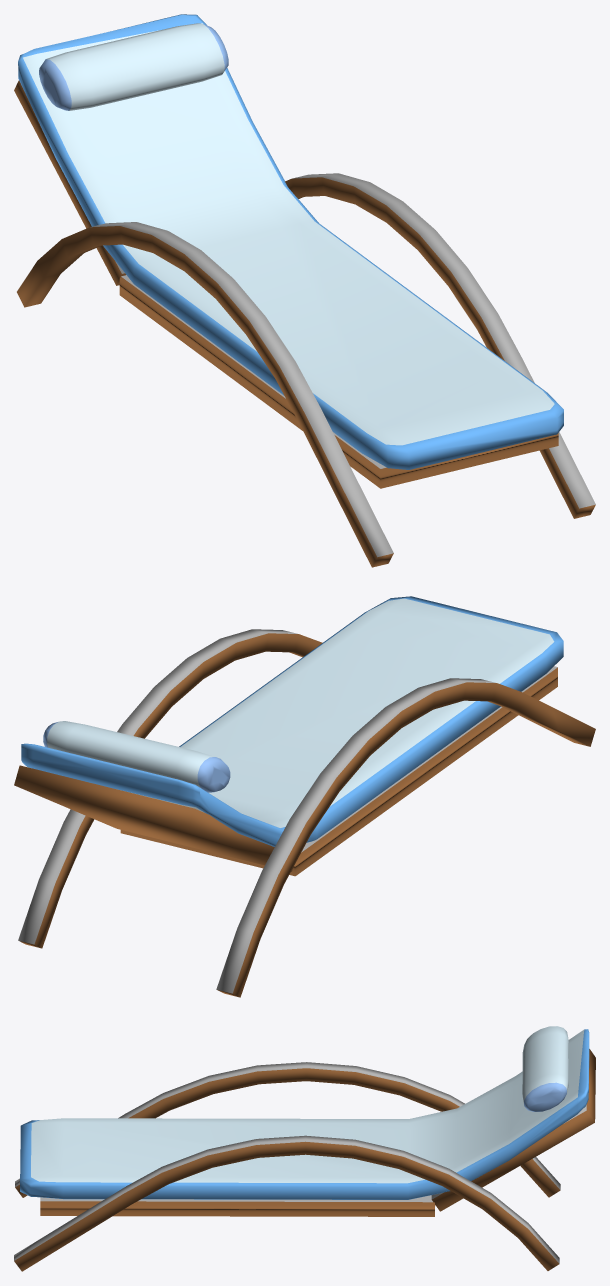
File: kansituoli.fbx
3 views of the same model, one above another, from view 1: azimuth 30°, elevation 25°; view 2: azimuth 150°, elevation 25°; view 3: azimuth 270°, elevation 25° (orthographic). The views are drawn at different scales.
Parts seen in each view (by area): view 1: polymsh, kansituoli:kansiTuoli; view 2: polymsh, kansituoli:kansiTuoli; view 3: polymsh, kansituoli:kansiTuoli.
Part boxes in pixels (x1,y1,x2,y2): polymsh: (14, 14, 595, 567); kansituoli:kansiTuoli: (119, 275, 558, 488); polymsh: (14, 596, 595, 997); kansituoli:kansiTuoli: (120, 666, 557, 876); polymsh: (14, 1026, 595, 1271); kansituoli:kansiTuoli: (40, 1195, 435, 1216).
Size of the model in its own units: 3.25 by 3.36 by 9.87.
7 materials, 5 textured.
